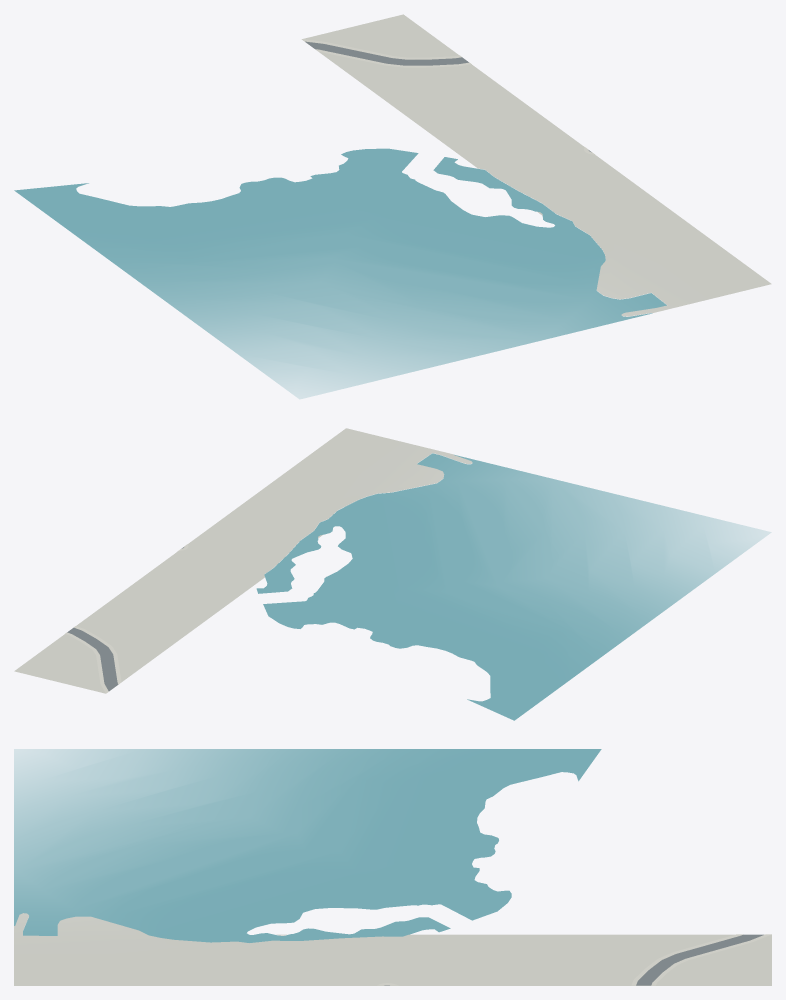
3 renders of one model, top to bottom at view 1: azimuth 30°, elevation 25°; view 2: azimuth 150°, elevation 25°; view 3: azimuth 270°, elevation 25°, orthographic. The views are drawn at different scales.
Parts seen in each view (by area): view 1: city; view 2: city; view 3: city.
Boxes of the visible parts, box(x1,y1,x2,y2) form: city: box(14, 14, 771, 398); city: box(14, 428, 770, 720); city: box(14, 749, 771, 985).
Bounding box in the file's own units: 370 × 0.4 × 500.
